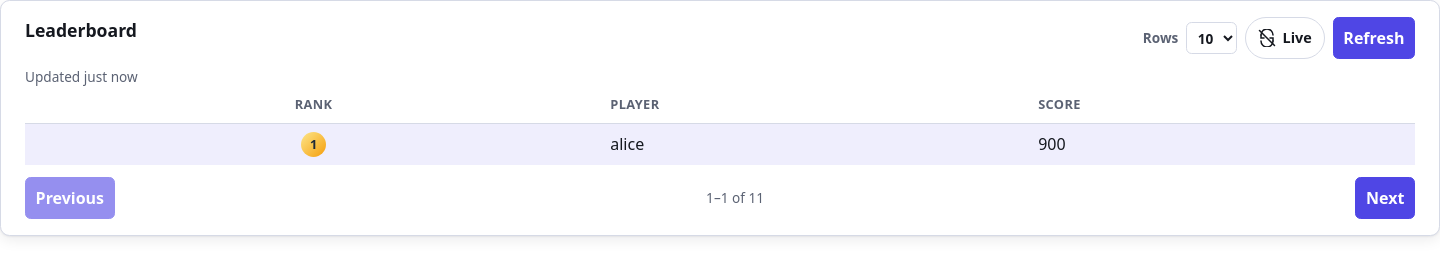
Test case: Leaderboard › does not show movement after paging to a different page
Expected: the text "alice" is shown, x1=602 y1=123 x2=1030 y2=165
Click the button "Next". click: (1385, 198)
box: x1=1356 y1=177 x2=1415 y2=219
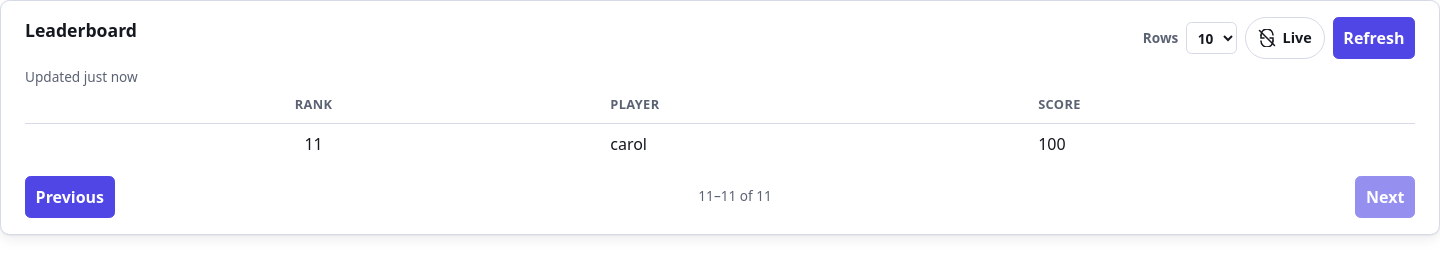
Now the text "carol" is shown, box x1=602 y1=123 x2=1030 y2=164
